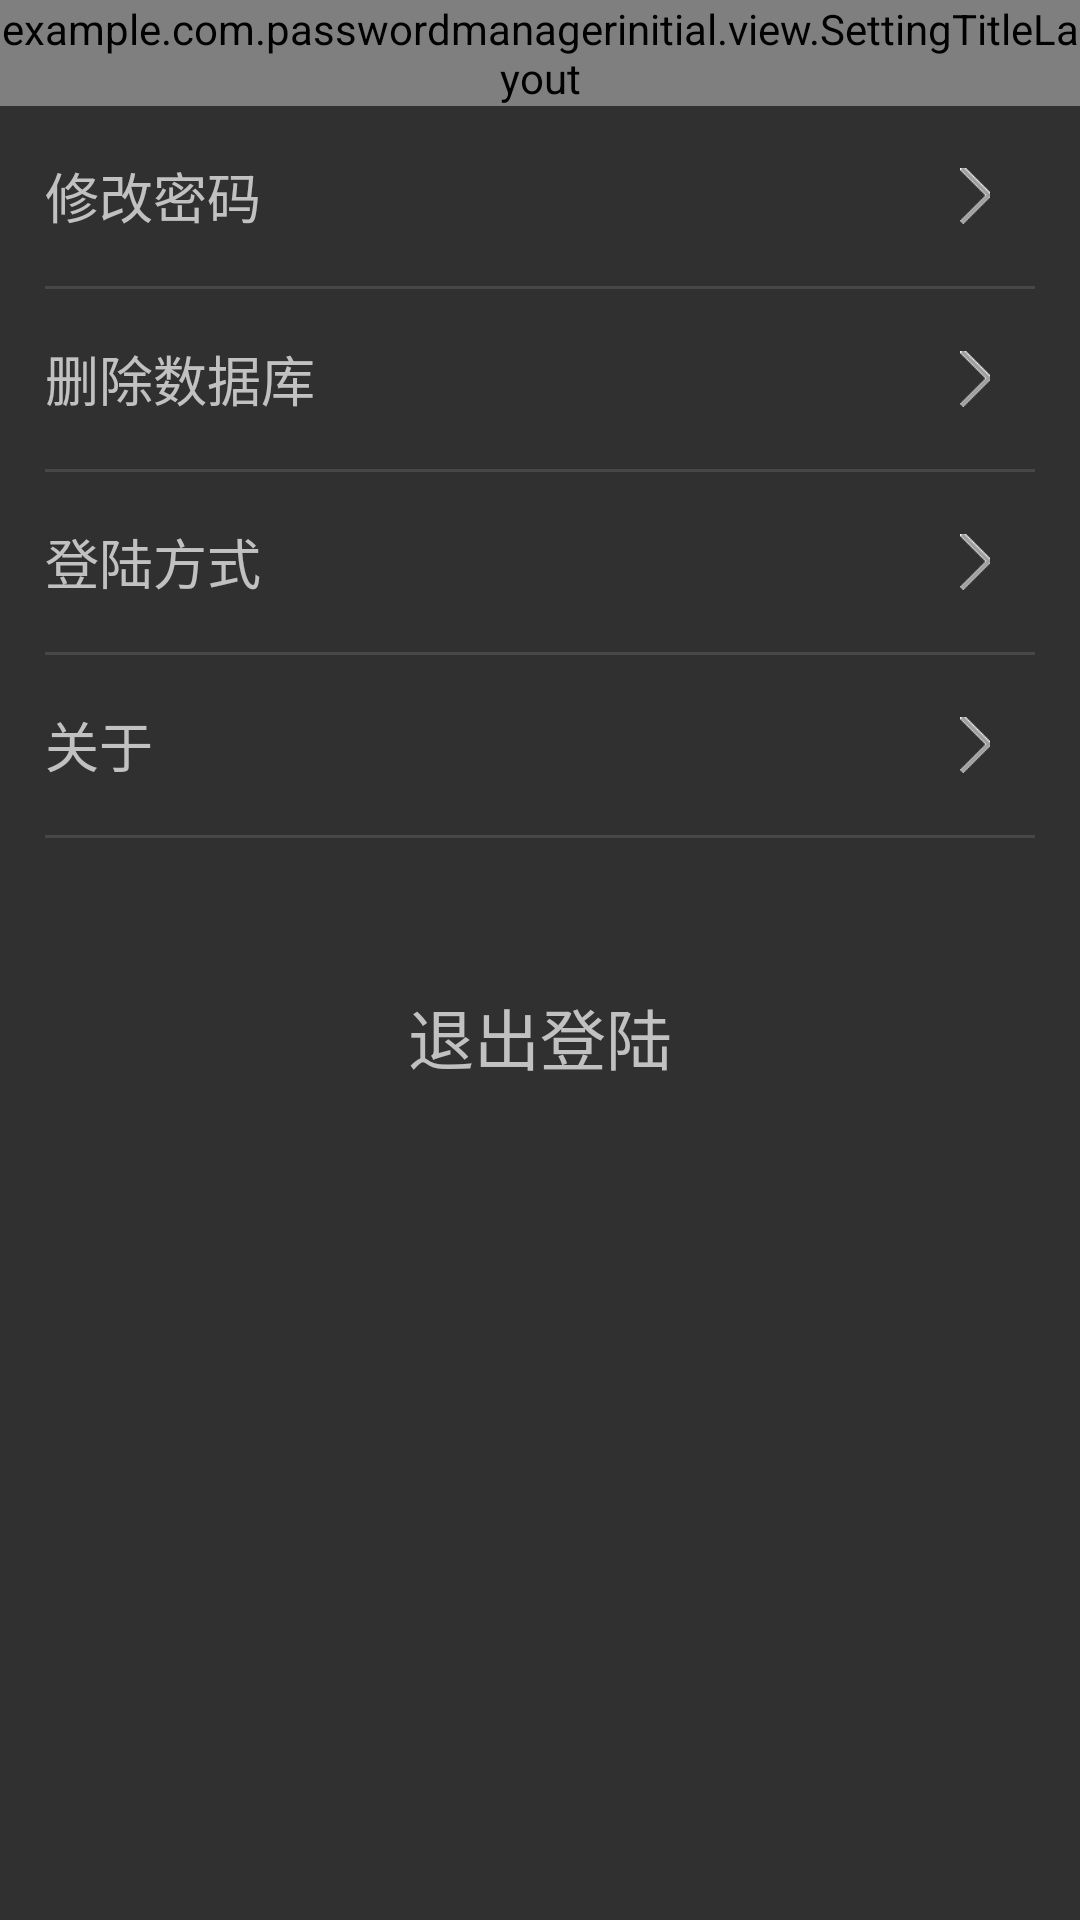

Icons on this 1080*1920 Android screen, each with its box as [x1=x1, y1=y1, x2=x2, y2=y2]:
right: [x1=960, y1=168, x2=990, y2=224], [x1=960, y1=351, x2=990, y2=407], [x1=960, y1=534, x2=990, y2=590], [x1=960, y1=717, x2=990, y2=773]
